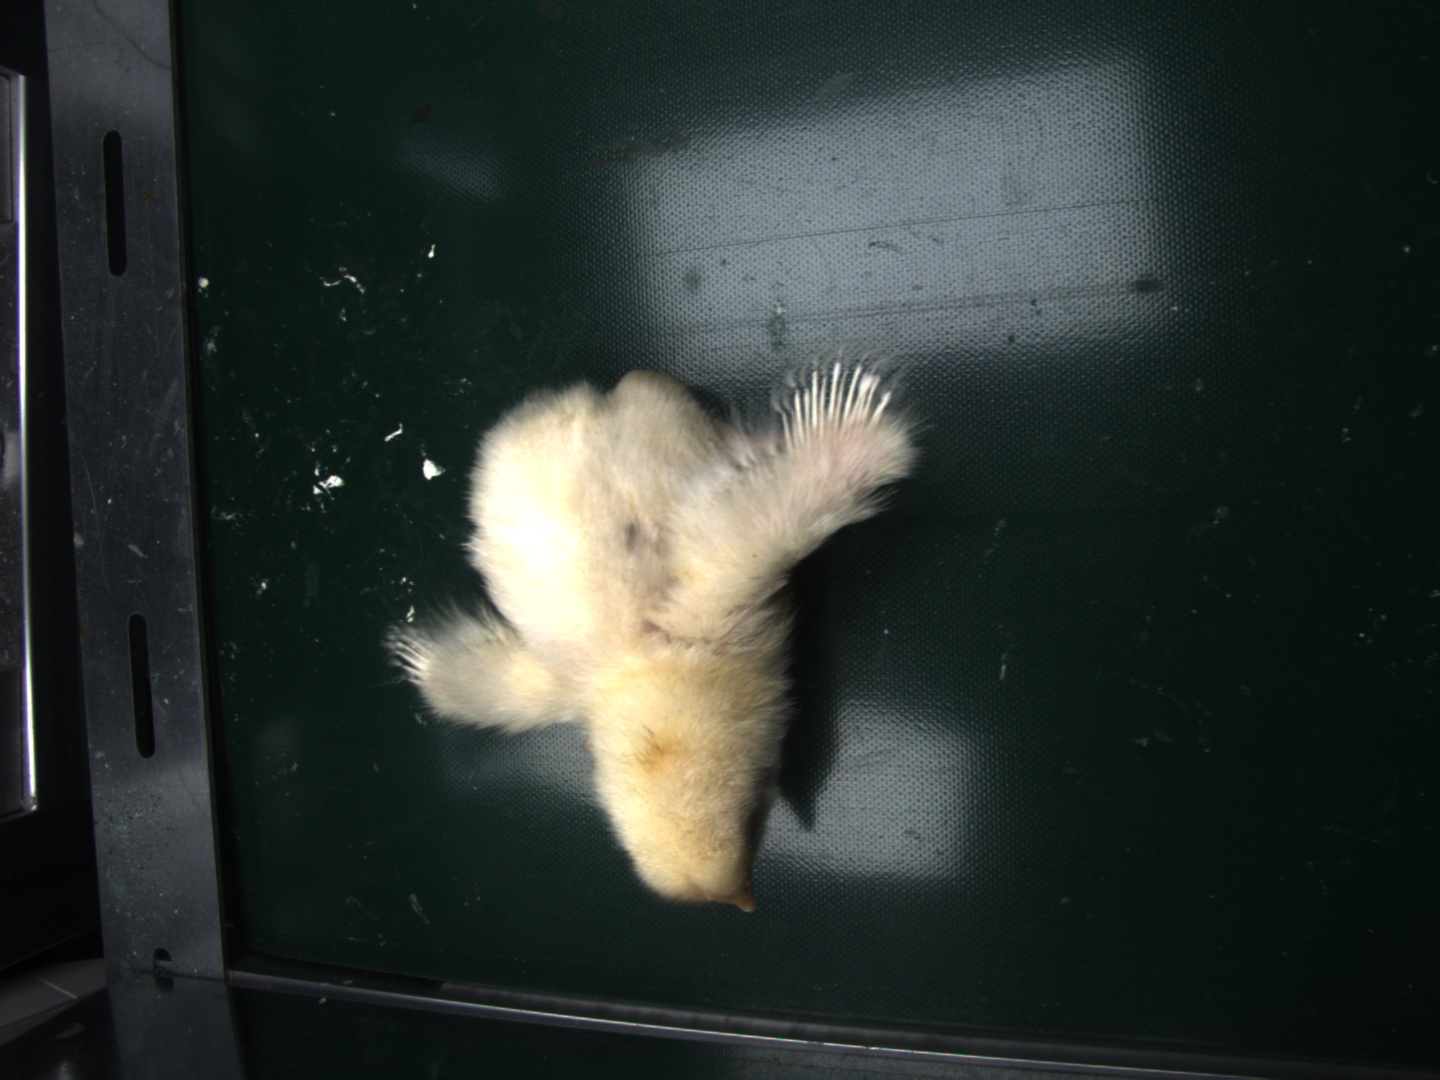male: (781, 361, 897, 452)
